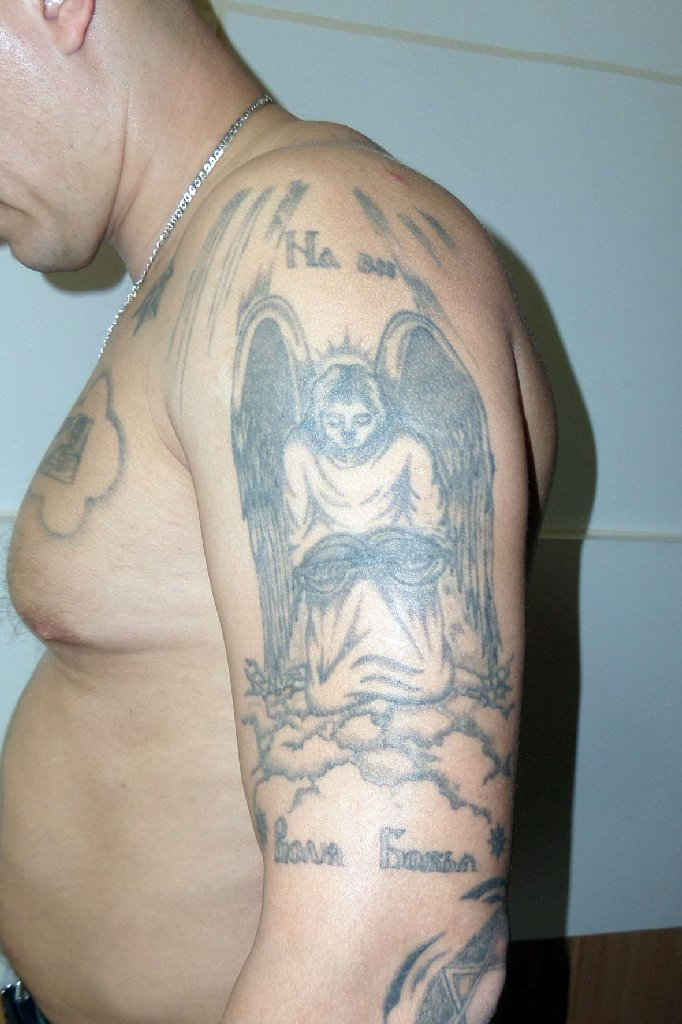tatu1_angel: (225, 289, 508, 719)
tatu3_bukva: (281, 816, 480, 888), (277, 220, 412, 287)
tatu4_zvezda: (487, 819, 511, 872)
